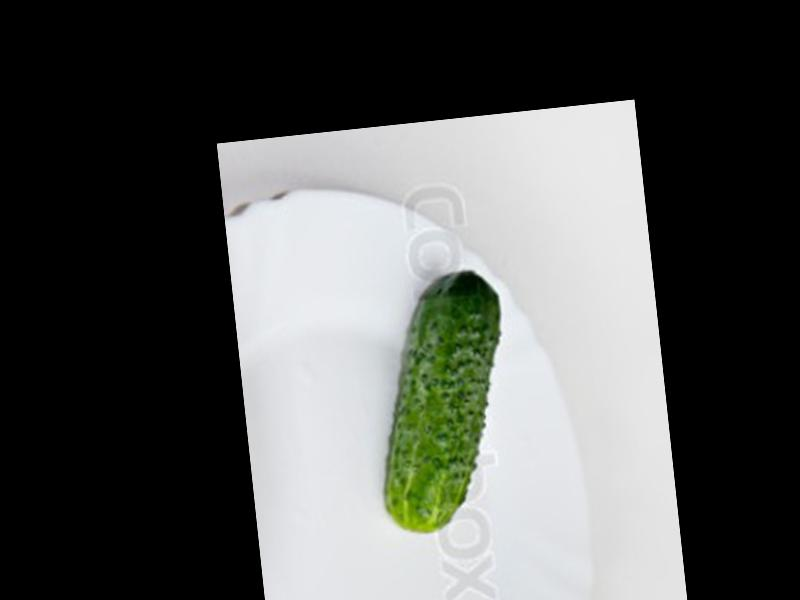Cucumber: (361, 270, 522, 535)
